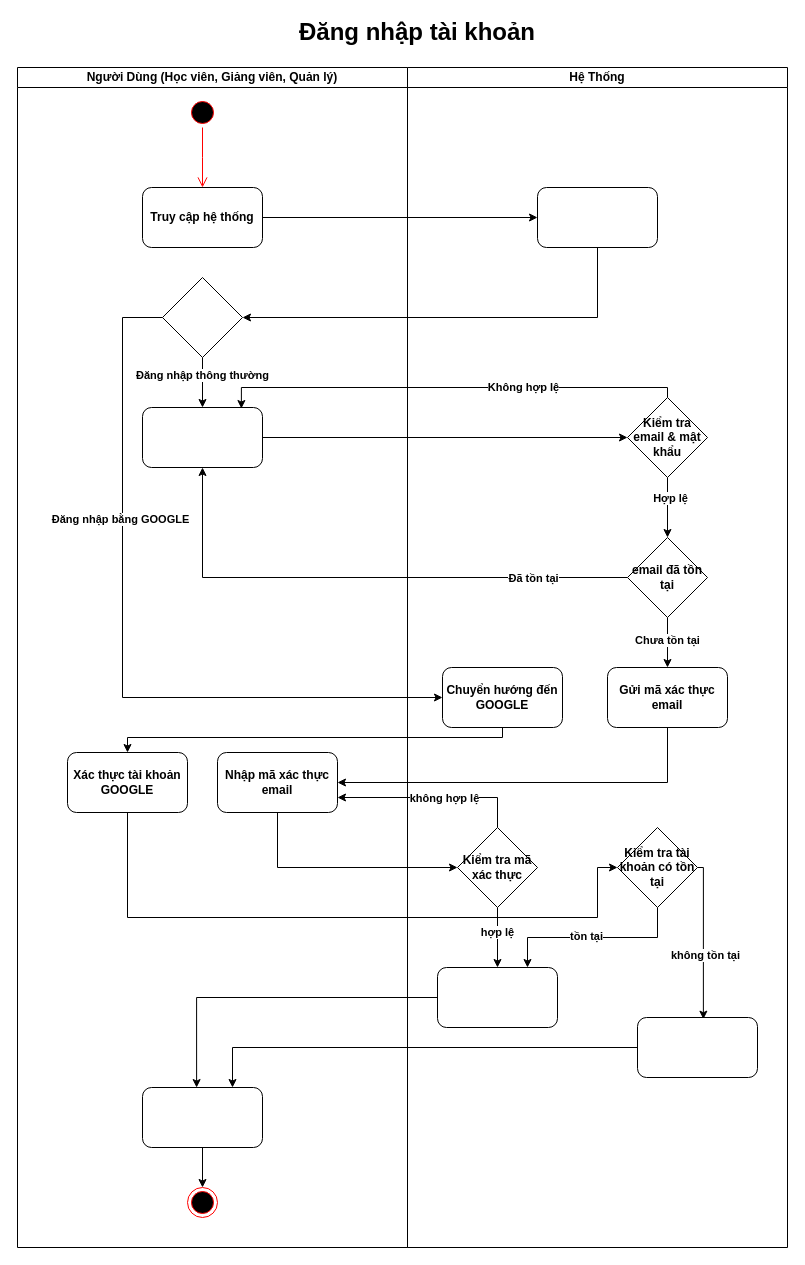
Image size: 805x1265. Some labels were removed from this diagram. The shapes that lost their labels are listed below. From the top down, each one's centre as x and y in pixels, then its label:
At point (597, 217): "Hiển thị form đăng nhập".
At point (202, 317): "Chọn phương thức đăng nhập".
At point (202, 437): "Nhập email và mật khẩu".
At point (497, 997): "Tạo phiên đăng nhập".
At point (697, 1047): "Thông báo đăng ký tài khoản".
At point (202, 1117): "Truy cập trang chủ".
